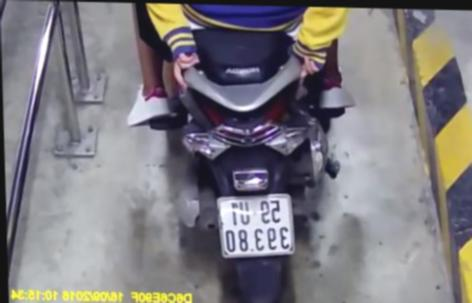License_Plate: (212, 188, 301, 266)
